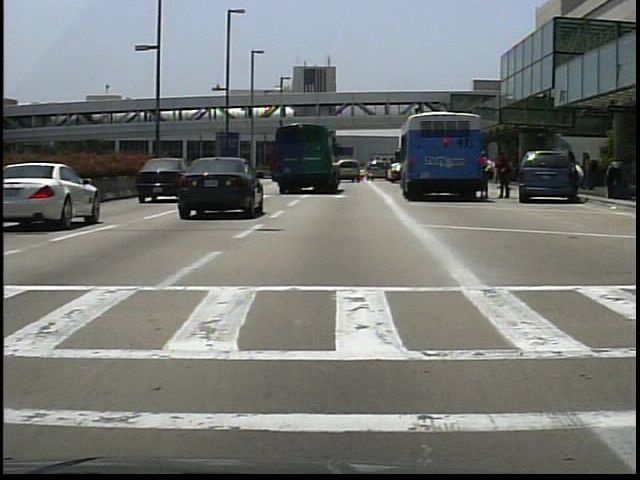person: (479, 152, 495, 200), (496, 153, 512, 198), (573, 161, 589, 200)
